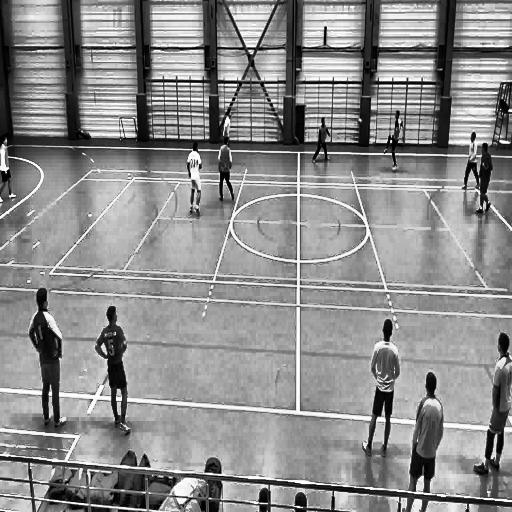ball: (357, 116, 363, 127)
player: (92, 300, 136, 443), (360, 312, 401, 464), (26, 286, 68, 434), (405, 368, 445, 512), (472, 327, 510, 477), (475, 142, 495, 224), (383, 108, 406, 178), (186, 140, 203, 218), (0, 133, 18, 206), (217, 136, 236, 205), (460, 129, 480, 190), (312, 113, 333, 168), (222, 105, 233, 139)
